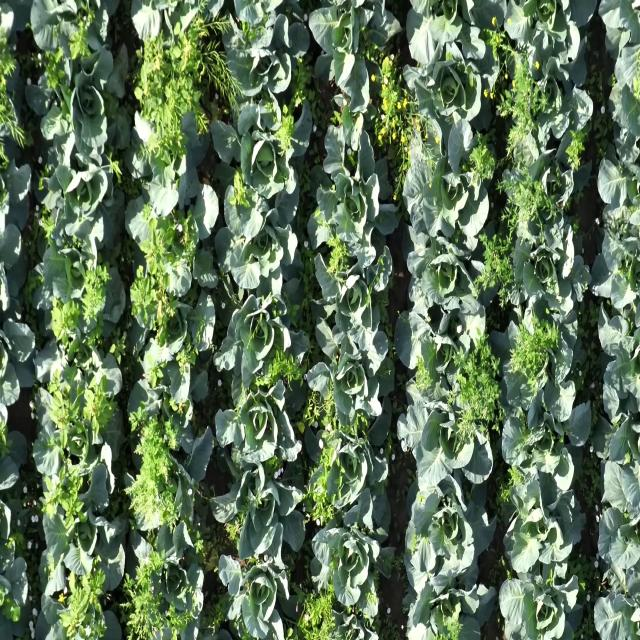holes: (208, 95, 316, 233), (405, 220, 492, 316), (498, 0, 600, 75)
